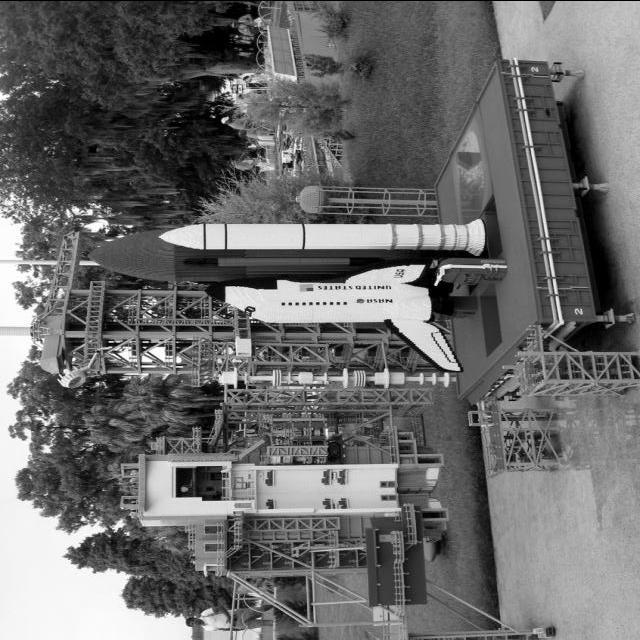missile: (151, 215, 490, 253)
